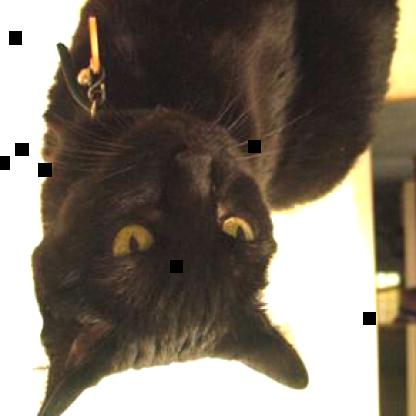cat: (29, 1, 405, 415)
